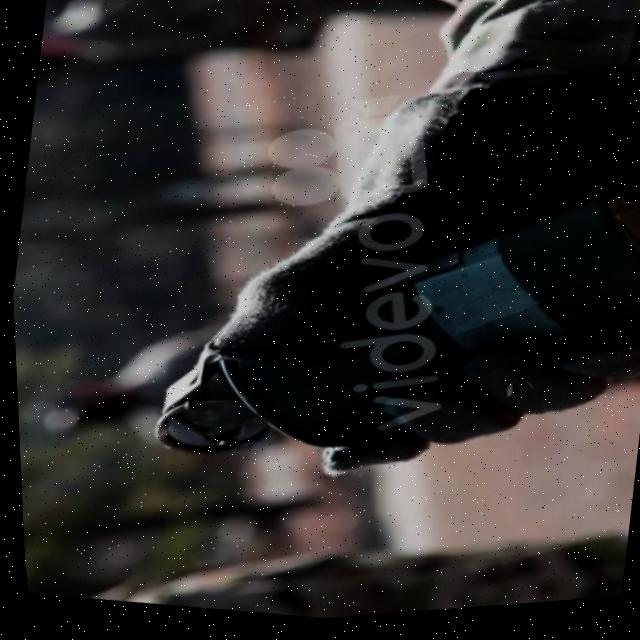grenade: (95, 114, 640, 556)
